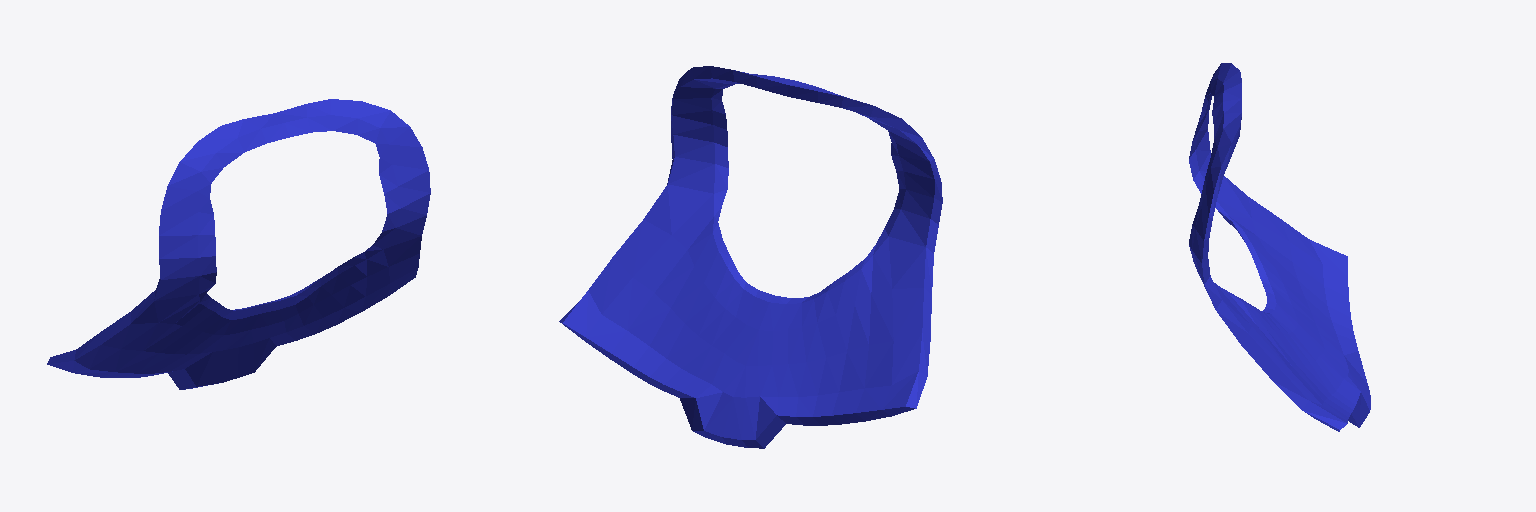
The model's file is NEWMMShirt.obj.
The picture shows the model from 3 angles: view 1: azimuth 30°, elevation 25°; view 2: azimuth 150°, elevation 25°; view 3: azimuth 270°, elevation 25°; orthographic projection.
Visible parts, largest first — view 1: Shirt; view 2: Shirt; view 3: Shirt.
Part boxes in pixels (x1,y1,x2,y2): Shirt: (47, 99, 430, 389); Shirt: (559, 66, 942, 448); Shirt: (1189, 63, 1370, 431).
Bounding box in the file's own units: 31.73 × 26.86 × 14.04.